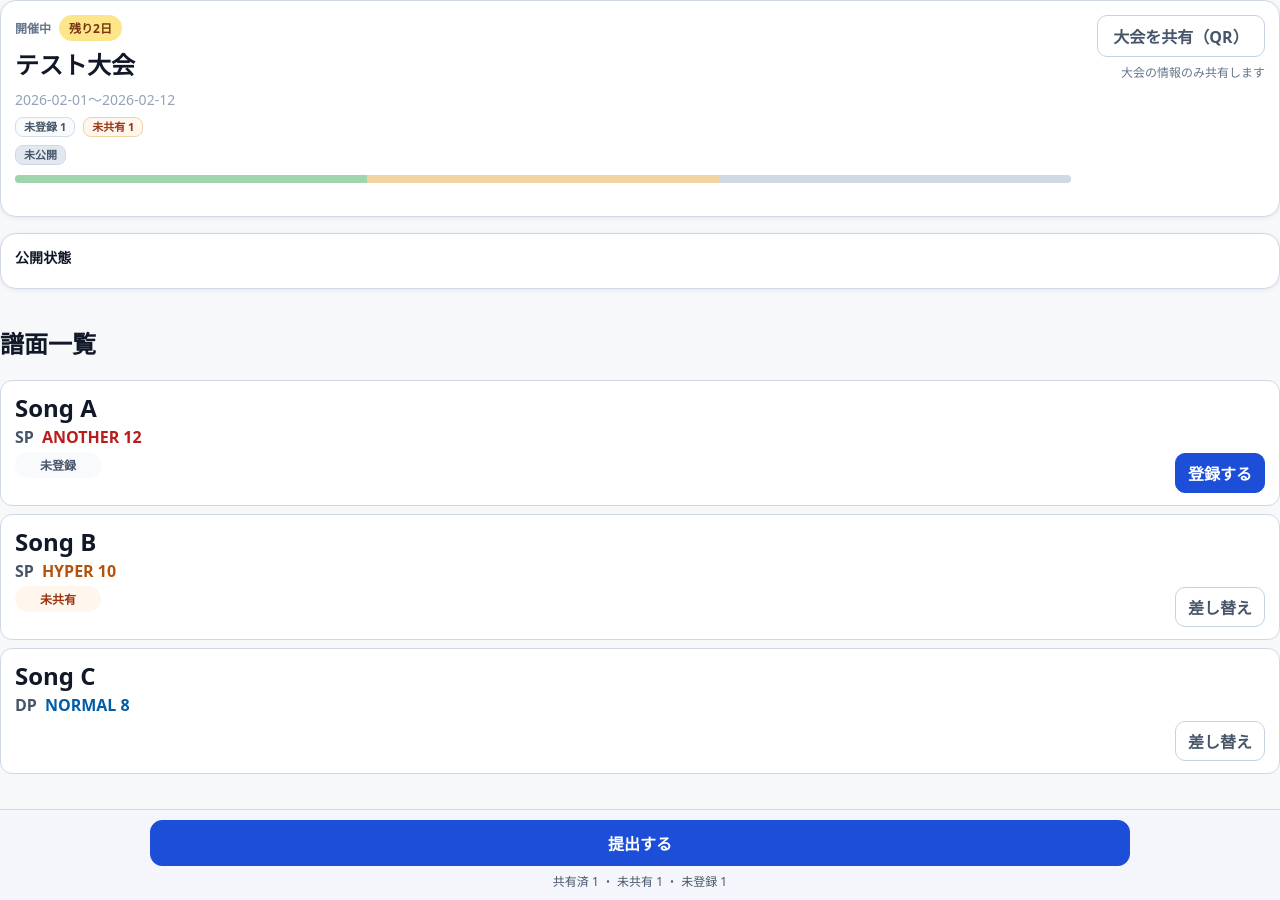
TournamentDetailPage › simplifies share dialog and keeps only required controls
The image size is (1280, 900).
Click the button with test id "tournament-detail-share-button".
click(1181, 36)  # box [1097,15,1265,57]
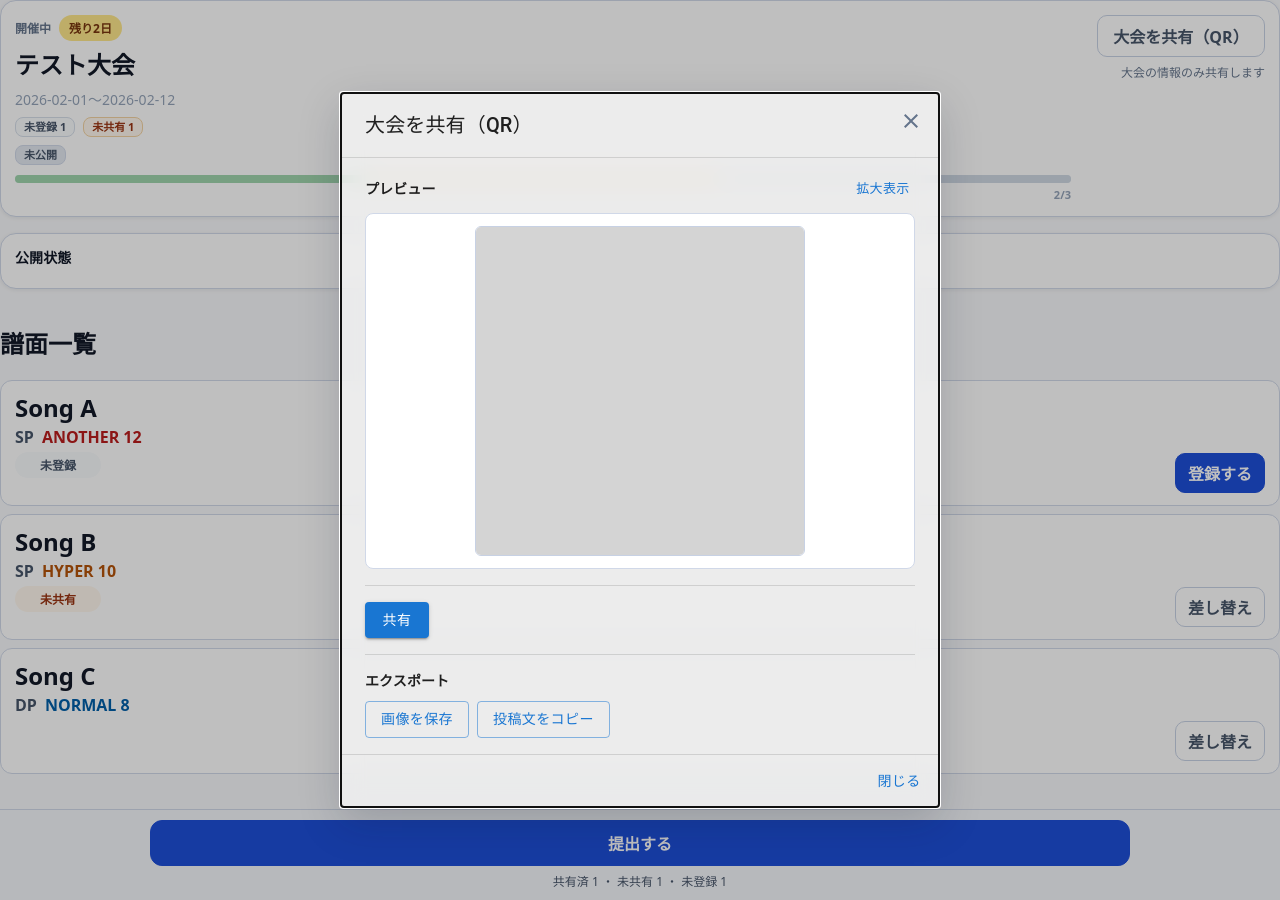
expect the button "投稿文をコピー" is shown: met, box [477,701,610,738]
expect the number of buttons "共有" is 1: met, box [365,602,429,638]
